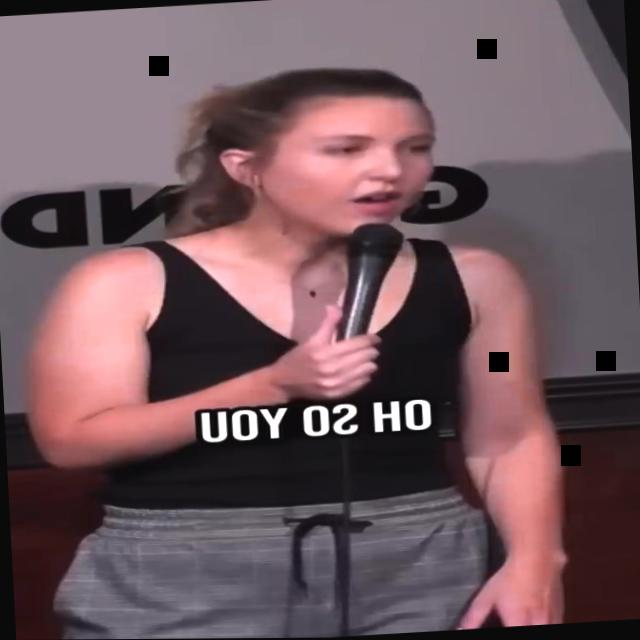NO-Mask: (235, 93, 450, 252)
